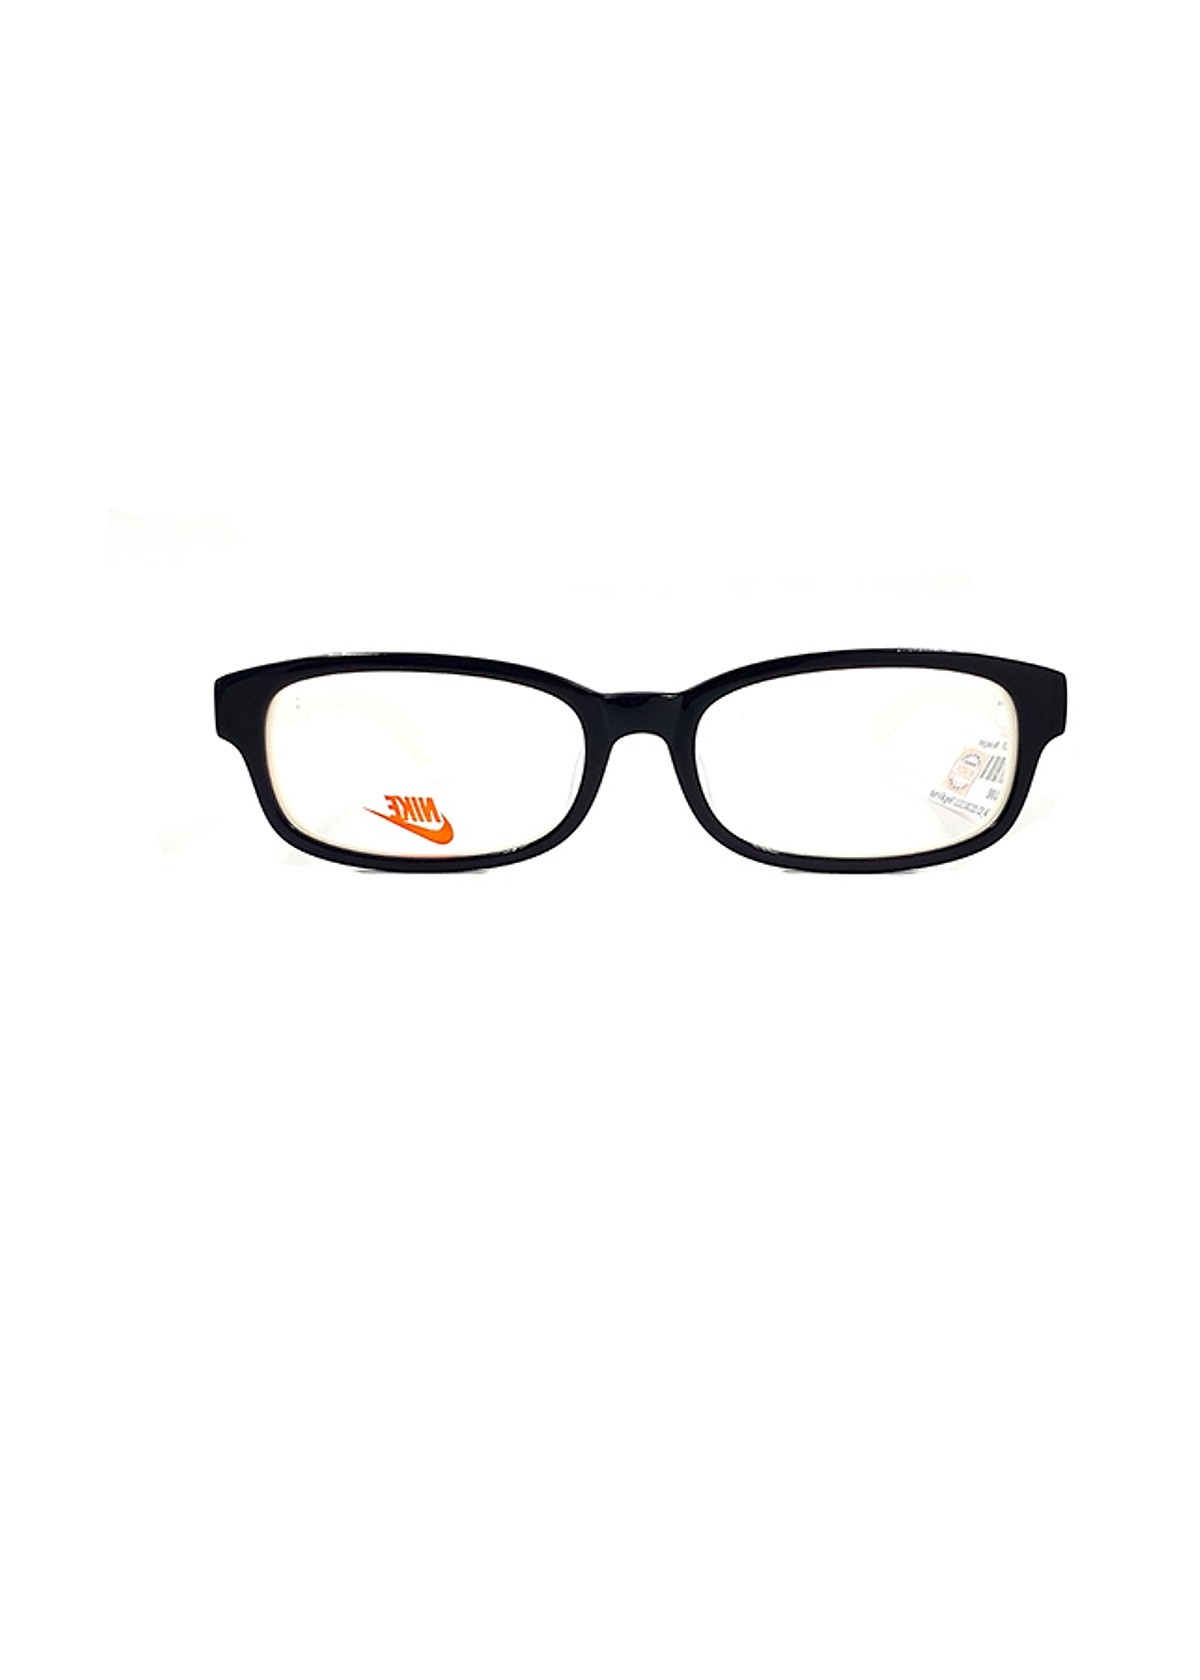Nike: (255, 717, 501, 898)
